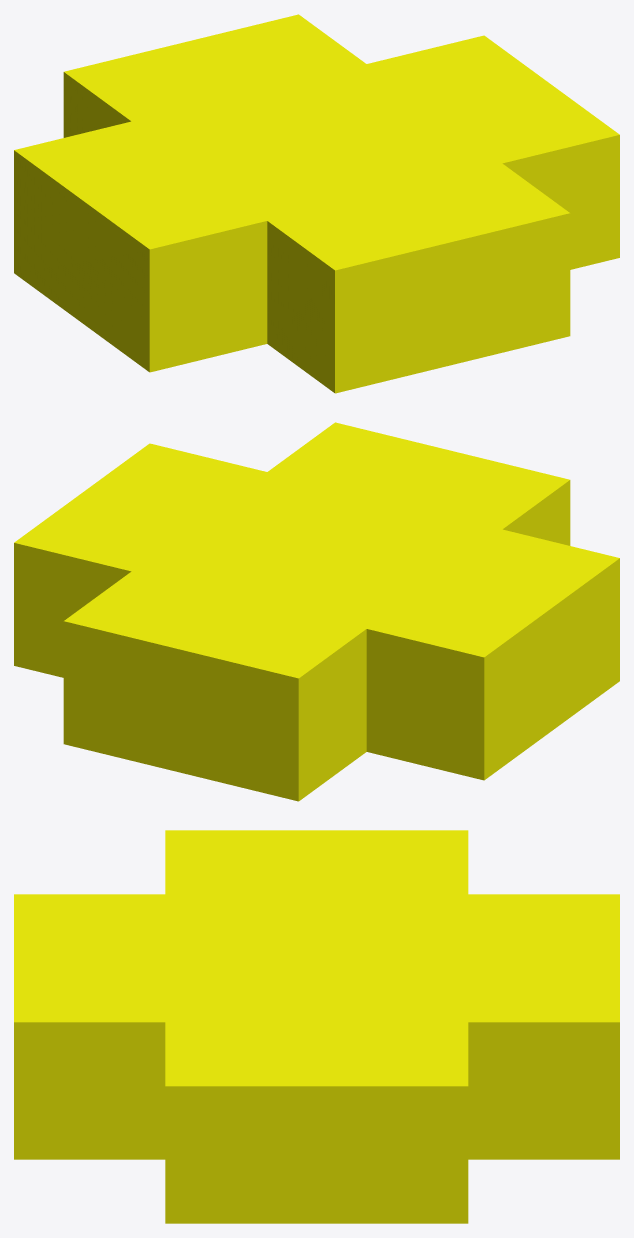
The model's file is voxel-village-coin.glb.
3 renders of one model, top to bottom at view 1: azimuth 30°, elevation 25°; view 2: azimuth 150°, elevation 25°; view 3: azimuth 270°, elevation 25°, orthographic. The views are drawn at different scales.
Visible parts, largest first — view 1: VS_Villagers_Coin; view 2: VS_Villagers_Coin; view 3: VS_Villagers_Coin.
Boxes of the visible parts, box(x1,y1,x2,y2) form: VS_Villagers_Coin: box(14, 14, 619, 393); VS_Villagers_Coin: box(14, 422, 619, 801); VS_Villagers_Coin: box(14, 830, 619, 1223).
Size of the model in its own units: 0.4 by 0.1 by 0.4.
